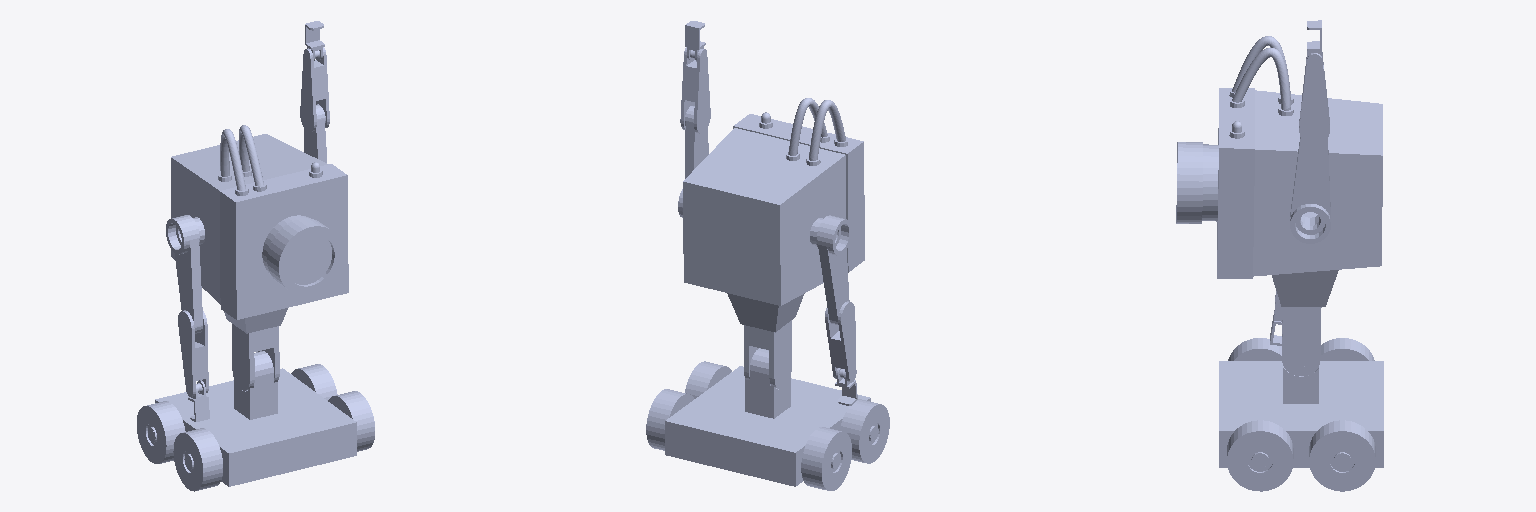
The robot description file, URDF, robot "butter_robot_large_base_urdf":
<?xml version="1.0" encoding="utf-8"?>
<!-- This URDF was automatically created by SolidWorks to URDF Exporter! Originally created by [author] ([email redacted]) 
     Commit Version: 1.6.0-1-g15f4949  Build Version: 1.6.7594.29634
     For more information, please see http://wiki.ros.org/sw_urdf_exporter -->
<robot
  name="butter_robot_large_base_urdf">
  <link
    name="base_Link">
    <inertial>
      <origin
        xyz="-0.0487232105091282 9.86708571078072E-18 -0.012438289278278"
        rpy="0 0 0" />
      <mass
        value="0.00536932262414497" />
      <inertia
        ixx="5.76073435531915E-07"
        ixy="7.69640473213972E-23"
        ixz="-1.77124924292863E-24"
        iyy="6.28079123541929E-07"
        iyz="2.23922421133806E-23"
        izz="1.06817976925242E-06" />
    </inertial>
    <visual>
      <origin
        xyz="0 0 0"
        rpy="0 0 0" />
      <geometry>
        <mesh
          filename="package://butter_robot_large_base_urdf/meshes/base_Link.STL" />
      </geometry>
      <material
        name="">
        <color
          rgba="0.792156862745098 0.819607843137255 0.933333333333333 1" />
      </material>
    </visual>
    <collision>
      <origin
        xyz="0 0 0"
        rpy="0 0 0" />
      <geometry>
        <mesh
          filename="package://butter_robot_large_base_urdf/meshes/base_Link.STL" />
      </geometry>
    </collision>
  </link>
  <link
    name="wheel_right_front_Link">
    <inertial>
      <origin
        xyz="0.0025 0 0"
        rpy="0 0 0" />
      <mass
        value="0.00061825" />
      <inertia
        ixx="1.3933E-08"
        ixy="4.9828E-26"
        ixz="7.5136E-25"
        iyy="8.2245E-09"
        iyz="4.1359E-25"
        izz="8.2245E-09" />
    </inertial>
    <visual>
      <origin
        xyz="0 0 0"
        rpy="0 0 0" />
      <geometry>
        <mesh
          filename="package://butter_robot_large_base_urdf/meshes/wheel_right_front_Link.STL" />
      </geometry>
      <material
        name="">
        <color
          rgba="0.79216 0.81961 0.93333 1" />
      </material>
    </visual>
    <collision>
      <origin
        xyz="0 0 0"
        rpy="0 0 0" />
      <geometry>
        <mesh
          filename="package://butter_robot_large_base_urdf/meshes/wheel_right_front_Link.STL" />
      </geometry>
    </collision>
  </link>
  <joint
    name="wheel_right_front"
    type="continuous">
    <origin
      xyz="-0.065223 -0.008 -0.013582"
      rpy="2.2394 0 -3.1416" />
    <parent
      link="base_Link" />
    <child
      link="wheel_right_front_Link" />
    <axis
      xyz="1 0 0" />
  </joint>
  <link
    name="wheel_right_back_Link">
    <inertial>
      <origin
        xyz="0.0025 3.4694E-18 3.4694E-18"
        rpy="0 0 0" />
      <mass
        value="0.00061825" />
      <inertia
        ixx="1.3933E-08"
        ixy="3.4466E-26"
        ixz="1.2063E-26"
        iyy="8.2245E-09"
        iyz="-5.5101E-40"
        izz="8.2245E-09" />
    </inertial>
    <visual>
      <origin
        xyz="0 0 0"
        rpy="0 0 0" />
      <geometry>
        <mesh
          filename="package://butter_robot_large_base_urdf/meshes/wheel_right_back_Link.STL" />
      </geometry>
      <material
        name="">
        <color
          rgba="0.79216 0.81961 0.93333 1" />
      </material>
    </visual>
    <collision>
      <origin
        xyz="0 0 0"
        rpy="0 0 0" />
      <geometry>
        <mesh
          filename="package://butter_robot_large_base_urdf/meshes/wheel_right_back_Link.STL" />
      </geometry>
    </collision>
  </link>
  <joint
    name="wheel_right_back"
    type="continuous">
    <origin
      xyz="-0.065223 0.008 -0.013582"
      rpy="1.5708 0 3.1416" />
    <parent
      link="base_Link" />
    <child
      link="wheel_right_back_Link" />
    <axis
      xyz="1 0 0" />
  </joint>
  <link
    name="wheel_left_front_Link">
    <inertial>
      <origin
        xyz="-0.0025 3.4694E-18 1.7347E-18"
        rpy="0 0 0" />
      <mass
        value="0.00061825" />
      <inertia
        ixx="1.3933E-08"
        ixy="-1.1954E-26"
        ixz="3.7929E-25"
        iyy="8.2245E-09"
        iyz="-8.2718E-25"
        izz="8.2245E-09" />
    </inertial>
    <visual>
      <origin
        xyz="0 0 0"
        rpy="0 0 0" />
      <geometry>
        <mesh
          filename="package://butter_robot_large_base_urdf/meshes/wheel_left_front_Link.STL" />
      </geometry>
      <material
        name="">
        <color
          rgba="0.79216 0.81961 0.93333 1" />
      </material>
    </visual>
    <collision>
      <origin
        xyz="0 0 0"
        rpy="0 0 0" />
      <geometry>
        <mesh
          filename="package://butter_robot_large_base_urdf/meshes/wheel_left_front_Link.STL" />
      </geometry>
    </collision>
  </link>
  <joint
    name="wheel_left_front"
    type="continuous">
    <origin
      xyz="-0.027223 -0.008 -0.013582"
      rpy="0.90215 0 0" />
    <parent
      link="base_Link" />
    <child
      link="wheel_left_front_Link" />
    <axis
      xyz="1 0 0" />
  </joint>
  <link
    name="wheel_left_back_Link">
    <inertial>
      <origin
        xyz="-0.0025 1.7347E-18 0"
        rpy="0 0 0" />
      <mass
        value="0.00061825" />
      <inertia
        ixx="1.3933E-08"
        ixy="-1.3471E-40"
        ixz="-2.2403E-26"
        iyy="8.2245E-09"
        iyz="2.4414E-40"
        izz="8.2245E-09" />
    </inertial>
    <visual>
      <origin
        xyz="0 0 0"
        rpy="0 0 0" />
      <geometry>
        <mesh
          filename="package://butter_robot_large_base_urdf/meshes/wheel_left_back_Link.STL" />
      </geometry>
      <material
        name="">
        <color
          rgba="0.79216 0.81961 0.93333 1" />
      </material>
    </visual>
    <collision>
      <origin
        xyz="0 0 0"
        rpy="0 0 0" />
      <geometry>
        <mesh
          filename="package://butter_robot_large_base_urdf/meshes/wheel_left_back_Link.STL" />
      </geometry>
    </collision>
  </link>
  <joint
    name="wheel_left_back"
    type="continuous">
    <origin
      xyz="-0.027223 0.008 -0.013582"
      rpy="1.5708 0 0" />
    <parent
      link="base_Link" />
    <child
      link="wheel_left_back_Link" />
    <axis
      xyz="1 0 0" />
  </joint>
  <link
    name="body_Link">
    <inertial>
      <origin
        xyz="0.00220693674438502 0.0320703435807592 -0.0140672326178452"
        rpy="0 0 0" />
      <mass
        value="0.0127431330344777" />
      <inertia
        ixx="1.70373736671612E-06"
        ixy="-4.63670921931001E-08"
        ixz="-3.654343695758E-10"
        iyy="1.28530353698776E-06"
        iyz="-3.00714102204925E-09"
        izz="1.26968266182564E-06" />
    </inertial>
    <visual>
      <origin
        xyz="0 0 0"
        rpy="0 0 0" />
      <geometry>
        <mesh
          filename="package://butter_robot_large_base_urdf/meshes/body_Link.STL" />
      </geometry>
      <material
        name="">
        <color
          rgba="0.792156862745098 0.819607843137255 0.933333333333333 1" />
      </material>
    </visual>
    <collision>
      <origin
        xyz="0 0 0"
        rpy="0 0 0" />
      <geometry>
        <mesh
          filename="package://butter_robot_large_base_urdf/meshes/body_Link.STL" />
      </geometry>
    </collision>
  </link>
  <joint
    name="body"
    type="continuous">
    <origin
      xyz="-0.0349732105091282 0 0.000417721518987318"
      rpy="1.5707963267949 -0.118795737316981 1.5707963267949" />
    <parent
      link="base_Link" />
    <child
      link="body_Link" />
    <axis
      xyz="0 0 1" />
  </joint>
  <link
    name="shoulder_right_Link">
    <inertial>
      <origin
        xyz="0.0015036 -0.0076028 -0.0014824"
        rpy="0 0 0" />
      <mass
        value="0.0003663" />
      <inertia
        ixx="1.9617E-08"
        ixy="-2.8097E-10"
        ixz="-5.4783E-11"
        iyy="2.4276E-09"
        iyz="-3.1007E-09"
        izz="1.7725E-08" />
    </inertial>
    <visual>
      <origin
        xyz="0 0 0"
        rpy="0 0 0" />
      <geometry>
        <mesh
          filename="package://butter_robot_large_base_urdf/meshes/shoulder_right_Link.STL" />
      </geometry>
      <material
        name="">
        <color
          rgba="0.79216 0.81961 0.93333 1" />
      </material>
    </visual>
    <collision>
      <origin
        xyz="0 0 0"
        rpy="0 0 0" />
      <geometry>
        <mesh
          filename="package://butter_robot_large_base_urdf/meshes/shoulder_right_Link.STL" />
      </geometry>
    </collision>
  </link>
  <joint
    name="shoulder_right"
    type="continuous">
    <origin
      xyz="0.005958 0.034944 -0.029"
      rpy="0.094339 1.5708 0" />
    <parent
      link="body_Link" />
    <child
      link="shoulder_right_Link" />
    <axis
      xyz="1 0 0" />
  </joint>
  <link
    name="elbow_right_Link">
    <inertial>
      <origin
        xyz="-0.003135 -0.0052602 -0.002"
        rpy="0 0 0" />
      <mass
        value="0.00022263" />
      <inertia
        ixx="3.0633E-09"
        ixy="-1.3711E-09"
        ixz="6.6593E-25"
        iyy="1.5798E-09"
        iyz="9.0757E-25"
        izz="3.8759E-09" />
    </inertial>
    <visual>
      <origin
        xyz="0 0 0"
        rpy="0 0 0" />
      <geometry>
        <mesh
          filename="package://butter_robot_large_base_urdf/meshes/elbow_right_Link.STL" />
      </geometry>
      <material
        name="">
        <color
          rgba="0.79216 0.81961 0.93333 1" />
      </material>
    </visual>
    <collision>
      <origin
        xyz="0 0 0"
        rpy="0 0 0" />
      <geometry>
        <mesh
          filename="package://butter_robot_large_base_urdf/meshes/elbow_right_Link.STL" />
      </geometry>
    </collision>
  </link>
  <joint
    name="elbow_right"
    type="continuous">
    <origin
      xyz="-0.0005 -0.019685 -0.0038383"
      rpy="-1.5708 -1.1945 1.5708" />
    <parent
      link="shoulder_right_Link" />
    <child
      link="elbow_right_Link" />
    <axis
      xyz="0 0 1" />
  </joint>
  <link
    name="hand_right_Link">
    <inertial>
      <origin
        xyz="0.00025313 -0.0022198 -0.002"
        rpy="0 0 0" />
      <mass
        value="3.858E-05" />
      <inertia
        ixx="1.8961E-10"
        ixy="1.5885E-11"
        ixz="1.0028E-26"
        iyy="6.8502E-11"
        iyz="-5.7587E-26"
        izz="1.7563E-10" />
    </inertial>
    <visual>
      <origin
        xyz="0 0 0"
        rpy="0 0 0" />
      <geometry>
        <mesh
          filename="package://butter_robot_large_base_urdf/meshes/hand_right_Link.STL" />
      </geometry>
      <material
        name="">
        <color
          rgba="0.79216 0.81961 0.93333 1" />
      </material>
    </visual>
    <collision>
      <origin
        xyz="0 0 0"
        rpy="0 0 0" />
      <geometry>
        <mesh
          filename="package://butter_robot_large_base_urdf/meshes/hand_right_Link.STL" />
      </geometry>
    </collision>
  </link>
  <joint
    name="hand_right"
    type="continuous">
    <origin
      xyz="-0.0076793 -0.012885 0"
      rpy="0 0 -0.76629" />
    <parent
      link="elbow_right_Link" />
    <child
      link="hand_right_Link" />
    <axis
      xyz="0 0 1" />
  </joint>
  <link
    name="shoulder_left_Link">
    <inertial>
      <origin
        xyz="0.0020036 -0.0076028 -0.0014824"
        rpy="0 0 0" />
      <mass
        value="0.0003663" />
      <inertia
        ixx="1.9617E-08"
        ixy="-2.8097E-10"
        ixz="-5.4783E-11"
        iyy="2.4276E-09"
        iyz="-3.1007E-09"
        izz="1.7725E-08" />
    </inertial>
    <visual>
      <origin
        xyz="0 0 0"
        rpy="0 0 0" />
      <geometry>
        <mesh
          filename="package://butter_robot_large_base_urdf/meshes/shoulder_left_Link.STL" />
      </geometry>
      <material
        name="">
        <color
          rgba="0.79216 0.81961 0.93333 1" />
      </material>
    </visual>
    <collision>
      <origin
        xyz="0 0 0"
        rpy="0 0 0" />
      <geometry>
        <mesh
          filename="package://butter_robot_large_base_urdf/meshes/shoulder_left_Link.STL" />
      </geometry>
    </collision>
  </link>
  <joint
    name="shoulder_left"
    type="continuous">
    <origin
      xyz="0.005958 0.034944 0.0005"
      rpy="2.7902 -1.5708 0" />
    <parent
      link="body_Link" />
    <child
      link="shoulder_left_Link" />
    <axis
      xyz="1 0 0" />
  </joint>
  <link
    name="elbow_left_Link">
    <inertial>
      <origin
        xyz="0.0038899 -0.0047293 -0.002"
        rpy="0 0 0" />
      <mass
        value="0.00022263" />
      <inertia
        ixx="2.6224E-09"
        ixy="1.5296E-09"
        ixz="1.2457E-24"
        iyy="2.0208E-09"
        iyz="-1.4104E-24"
        izz="3.8759E-09" />
    </inertial>
    <visual>
      <origin
        xyz="0 0 0"
        rpy="0 0 0" />
      <geometry>
        <mesh
          filename="package://butter_robot_large_base_urdf/meshes/elbow_left_Link.STL" />
      </geometry>
      <material
        name="">
        <color
          rgba="0.79216 0.81961 0.93333 1" />
      </material>
    </visual>
    <collision>
      <origin
        xyz="0 0 0"
        rpy="0 0 0" />
      <geometry>
        <mesh
          filename="package://butter_robot_large_base_urdf/meshes/elbow_left_Link.STL" />
      </geometry>
    </collision>
  </link>
  <joint
    name="elbow_left"
    type="continuous">
    <origin
      xyz="0 -0.019685 -0.0038383"
      rpy="1.5708 -0.65141 -1.5708" />
    <parent
      link="shoulder_left_Link" />
    <child
      link="elbow_left_Link" />
    <axis
      xyz="0 0 1" />
  </joint>
  <link
    name="hand_left_Link">
    <inertial>
      <origin
        xyz="0.0010846 -0.0016774 0.0025"
        rpy="0 0 0" />
      <mass
        value="3.858E-05" />
      <inertia
        ixx="1.8996E-10"
        ixy="1.4476E-11"
        ixz="-2.8606E-26"
        iyy="6.815E-11"
        iyz="3.822E-26"
        izz="1.7563E-10" />
    </inertial>
    <visual>
      <origin
        xyz="0 0 0"
        rpy="0 0 0" />
      <geometry>
        <mesh
          filename="package://butter_robot_large_base_urdf/meshes/hand_left_Link.STL" />
      </geometry>
      <material
        name="">
        <color
          rgba="0.79216 0.81961 0.93333 1" />
      </material>
    </visual>
    <collision>
      <origin
        xyz="0 0 0"
        rpy="0 0 0" />
      <geometry>
        <mesh
          filename="package://butter_robot_large_base_urdf/meshes/hand_left_Link.STL" />
      </geometry>
    </collision>
  </link>
  <joint
    name="hand_left"
    type="continuous">
    <origin
      xyz="0.010493 -0.011265 0.0005"
      rpy="3.1416 0 -2.2547" />
    <parent
      link="elbow_left_Link" />
    <child
      link="hand_left_Link" />
    <axis
      xyz="0 0 1" />
  </joint>
  <link
    name="cam_Link">
    <inertial>
      <origin
        xyz="-1.3739E-15 4.9703E-14 0.0038501"
        rpy="0 0 0" />
      <mass
        value="0.0014224" />
      <inertia
        ixx="2.9163E-08"
        ixy="-3.6477E-25"
        ixz="-1.0602E-21"
        iyy="2.9163E-08"
        iyz="3.8305E-20"
        izz="4.5044E-08" />
    </inertial>
    <visual>
      <origin
        xyz="0 0 0"
        rpy="0 0 0" />
      <geometry>
        <mesh
          filename="package://butter_robot_large_base_urdf/meshes/cam_Link.STL" />
      </geometry>
      <material
        name="">
        <color
          rgba="0.79216 0.81961 0.93333 1" />
      </material>
    </visual>
    <collision>
      <origin
        xyz="0 0 0"
        rpy="0 0 0" />
      <geometry>
        <mesh
          filename="package://butter_robot_large_base_urdf/meshes/cam_Link.STL" />
      </geometry>
    </collision>
  </link>
  <joint
    name="cam"
    type="fixed">
    <origin
      xyz="-0.011888 0.037292 -0.01405"
      rpy="1.5708 -1.5431 -1.7044" />
    <parent
      link="body_Link" />
    <child
      link="cam_Link" />
    <axis
      xyz="0 0 0" />
  </joint>
</robot>

--- Render facts (derived) ---
Views: 3 orthographic renders of the robot side by side, from view 1: azimuth 30°, elevation 25°; view 2: azimuth 150°, elevation 25°; view 3: azimuth 270°, elevation 25°.
Robot: butter_robot_large_base_urdf — 13 links, 12 joints (11 continuous, 1 fixed); root link base_Link; default pose: all joints at 0.
Visible links, largest first — view 1: body_Link, base_Link, cam_Link, shoulder_right_Link, wheel_right_front_Link, wheel_right_back_Link, elbow_right_Link, elbow_left_Link, wheel_left_front_Link, wheel_left_back_Link, shoulder_left_Link, hand_right_Link (+1 smaller); view 2: body_Link, base_Link, shoulder_right_Link, wheel_right_back_Link, wheel_right_front_Link, elbow_left_Link, elbow_right_Link, wheel_left_back_Link, shoulder_left_Link, wheel_left_front_Link, hand_left_Link, hand_right_Link; view 3: body_Link, base_Link, wheel_left_front_Link, wheel_left_back_Link, shoulder_left_Link, cam_Link, elbow_left_Link, wheel_right_back_Link, wheel_right_front_Link.
Boxes of the visible links, x1,y1,x2,y2 form: body_Link: (171, 125, 348, 390); base_Link: (148, 351, 356, 486); cam_Link: (262, 215, 342, 294); shoulder_right_Link: (166, 215, 202, 333); wheel_right_front_Link: (173, 428, 222, 491); wheel_right_back_Link: (137, 401, 185, 463); elbow_right_Link: (178, 310, 208, 396); elbow_left_Link: (300, 47, 329, 131); wheel_left_front_Link: (328, 391, 374, 451); wheel_left_back_Link: (291, 364, 337, 400); shoulder_left_Link: (304, 104, 326, 162); hand_right_Link: (187, 380, 209, 421); body_Link: (683, 98, 864, 388); base_Link: (665, 348, 877, 486); shoulder_right_Link: (817, 215, 851, 324); wheel_right_back_Link: (801, 427, 851, 490); wheel_right_front_Link: (840, 399, 889, 463); elbow_left_Link: (680, 47, 710, 133); elbow_right_Link: (825, 301, 856, 382); wheel_left_back_Link: (646, 389, 693, 450); shoulder_left_Link: (678, 106, 708, 217); wheel_left_front_Link: (685, 361, 731, 398); hand_left_Link: (685, 21, 705, 61); hand_right_Link: (835, 368, 857, 405); body_Link: (1217, 36, 1382, 375); base_Link: (1219, 361, 1383, 467); wheel_left_front_Link: (1227, 420, 1293, 491); wheel_left_back_Link: (1309, 420, 1375, 491); shoulder_left_Link: (1290, 137, 1330, 243); cam_Link: (1176, 142, 1218, 223); elbow_left_Link: (1299, 52, 1329, 144); wheel_right_back_Link: (1321, 338, 1374, 360); wheel_right_front_Link: (1228, 338, 1281, 360).
Size in the robot's own frame: 0.043 by 0.0403 by 0.0979 metres.
Meshes: 13 distinct files referenced, 13 mesh visuals loaded (13 binary STL).
